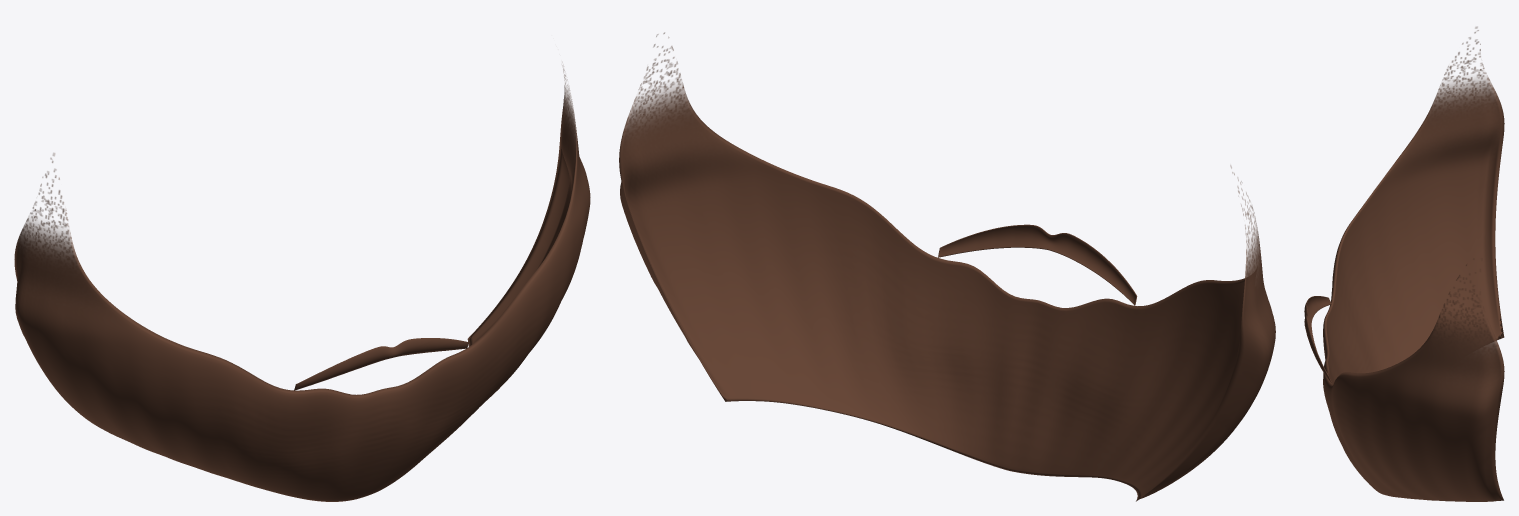
Rendered from Masculine-groom-full.glb.
3 renders of one model, left to right at view 1: azimuth 30°, elevation 25°; view 2: azimuth 150°, elevation 25°; view 3: azimuth 270°, elevation 25°, orthographic. The views are drawn at different scales.
Visible parts, largest first — view 1: Groom / full body184, Groom / shared mustache185; view 2: Groom / full body184, Groom / shared mustache185; view 3: Groom / full body184, Groom / shared mustache185.
Boxes of the visible parts, <box> form: Groom / full body184: <box>14,65,590,501</box>; Groom / shared mustache185: <box>294,338,468,390</box>; Groom / full body184: <box>619,32,1275,501</box>; Groom / shared mustache185: <box>938,224,1137,305</box>; Groom / full body184: <box>1323,26,1504,501</box>; Groom / shared mustache185: <box>1304,296,1331,382</box>.
Bounding box in the file's own units: 0.9843 × 0.6371 × 0.3239.
2 materials, 1 textured.
